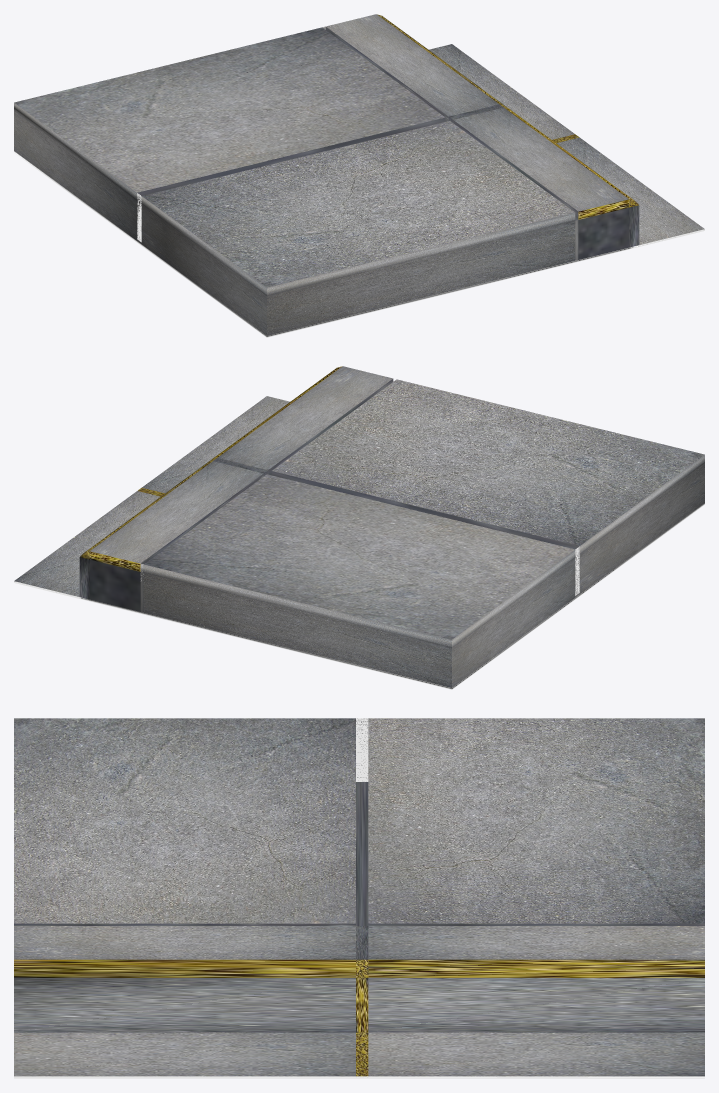
Rendered from sidewalkstraight.fbx.
3 renders of one model, top to bottom at view 1: azimuth 30°, elevation 25°; view 2: azimuth 150°, elevation 25°; view 3: azimuth 270°, elevation 25°, orthographic. The views are drawn at different scales.
Visible parts, largest first — view 1: Cube.001; view 2: Cube.001; view 3: Cube.001.
Boxes of the visible parts, x1,y1,x2,y2 form: Cube.001: (14, 14, 704, 337); Cube.001: (14, 366, 704, 689); Cube.001: (14, 718, 704, 1078).
Size of the model in its own units: 400 by 43.76 by 400.
